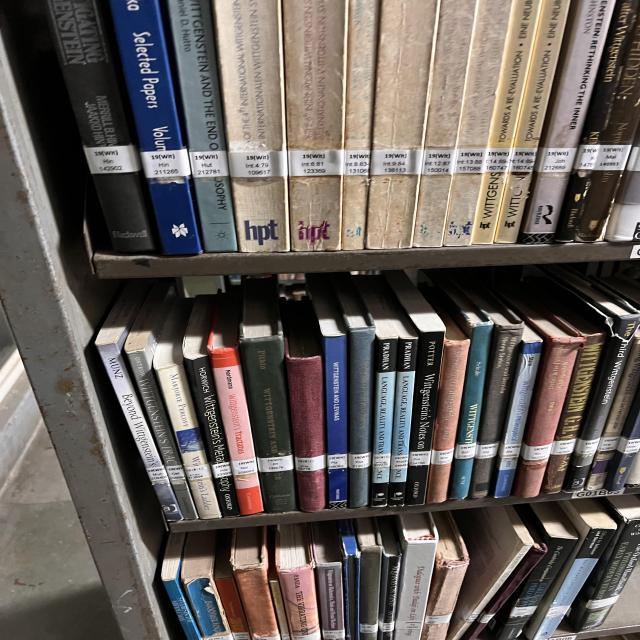Book: (48, 0, 155, 252), (110, 0, 202, 255), (520, 0, 615, 242), (95, 280, 183, 521), (555, 0, 640, 242), (550, 269, 640, 491), (213, 0, 290, 252), (495, 0, 570, 244), (123, 282, 198, 519), (367, 0, 438, 249), (167, 0, 237, 251), (443, 0, 512, 246), (472, 0, 540, 244), (283, 0, 347, 251), (413, 0, 477, 248), (505, 295, 583, 498), (153, 300, 222, 519), (535, 291, 607, 494), (385, 271, 445, 505), (577, 20, 640, 241), (238, 278, 297, 512), (523, 499, 617, 640), (463, 284, 523, 499), (182, 295, 240, 516), (207, 294, 263, 515), (490, 501, 578, 640), (447, 505, 533, 640), (460, 525, 548, 640), (332, 275, 375, 508), (567, 496, 640, 631), (355, 278, 398, 506), (307, 275, 348, 509), (342, 0, 378, 250), (585, 330, 640, 490), (492, 326, 543, 498), (427, 311, 470, 504), (450, 310, 493, 499), (420, 511, 470, 640), (287, 351, 327, 511), (388, 306, 418, 505), (393, 512, 438, 640), (180, 530, 232, 640), (232, 526, 280, 640), (275, 524, 320, 640), (162, 532, 202, 640), (215, 530, 252, 640), (312, 521, 345, 640), (603, 388, 640, 491), (355, 518, 382, 640), (377, 516, 402, 640), (338, 519, 360, 640)
Label: (83, 145, 142, 174), (228, 151, 287, 178), (140, 149, 190, 179), (288, 150, 343, 176), (370, 150, 423, 175), (188, 151, 228, 178), (593, 145, 632, 171), (537, 148, 577, 172), (422, 150, 455, 175), (455, 149, 487, 174), (573, 144, 600, 170), (345, 150, 370, 176), (510, 148, 537, 172), (485, 149, 512, 172), (257, 455, 293, 472), (520, 444, 552, 461), (167, 465, 188, 490), (500, 444, 520, 470), (295, 455, 325, 471), (185, 464, 212, 481), (575, 438, 600, 456), (550, 439, 577, 455), (232, 458, 257, 475), (475, 442, 500, 459), (147, 465, 168, 485), (597, 436, 620, 454), (617, 436, 640, 454), (348, 452, 372, 469), (408, 450, 432, 466), (455, 442, 477, 459), (430, 449, 453, 465), (212, 461, 232, 478), (327, 454, 348, 470), (372, 454, 392, 468), (390, 455, 408, 470), (187, 451, 202, 460), (597, 455, 612, 461)
